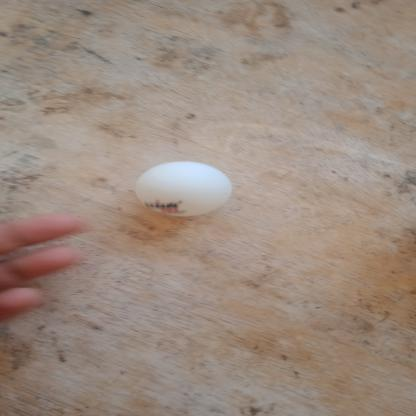Tabel Tennis: (130, 159, 237, 221)
